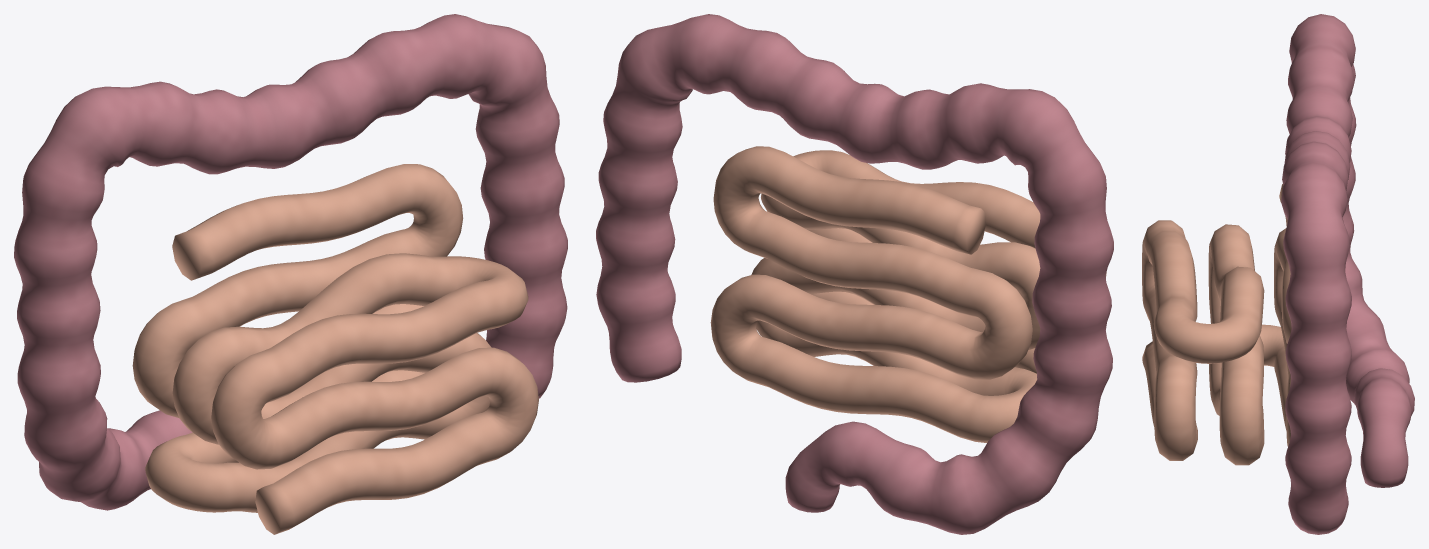
File: innerscene-intestine.glb
The picture shows the model from 3 angles, left to right: view 1: azimuth 30°, elevation 25°; view 2: azimuth 150°, elevation 25°; view 3: azimuth 270°, elevation 25°; orthographic projection. The views are drawn at different scales.
Visible parts, largest first — view 1: Convoluted representative small bowel course, Large intestine cecum colon sigmoid and rectal stub; view 2: Large intestine cecum colon sigmoid and rectal stub, Convoluted representative small bowel course; view 3: Large intestine cecum colon sigmoid and rectal stub, Convoluted representative small bowel course.
Part boxes in pixels (bbox=[...]): Convoluted representative small bowel course: bbox=[132, 164, 538, 534]; Large intestine cecum colon sigmoid and rectal stub: bbox=[14, 14, 567, 510]; Large intestine cecum colon sigmoid and rectal stub: bbox=[596, 14, 1113, 534]; Convoluted representative small bowel course: bbox=[710, 146, 1106, 442]; Large intestine cecum colon sigmoid and rectal stub: bbox=[1281, 14, 1414, 534]; Convoluted representative small bowel course: bbox=[1142, 184, 1291, 465].
Bounding box in the file's own units: 0.2547 × 0.2049 × 0.1324.
Materials: 2 (2 with a texture image).
